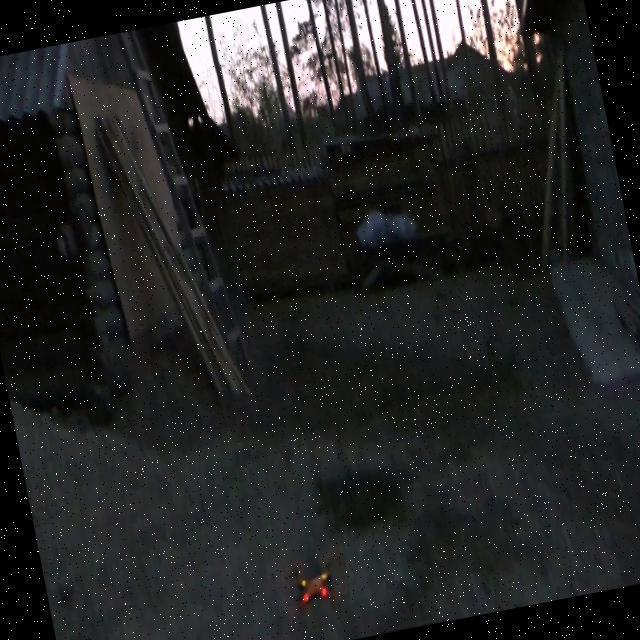Drons: (271, 547, 361, 624)
